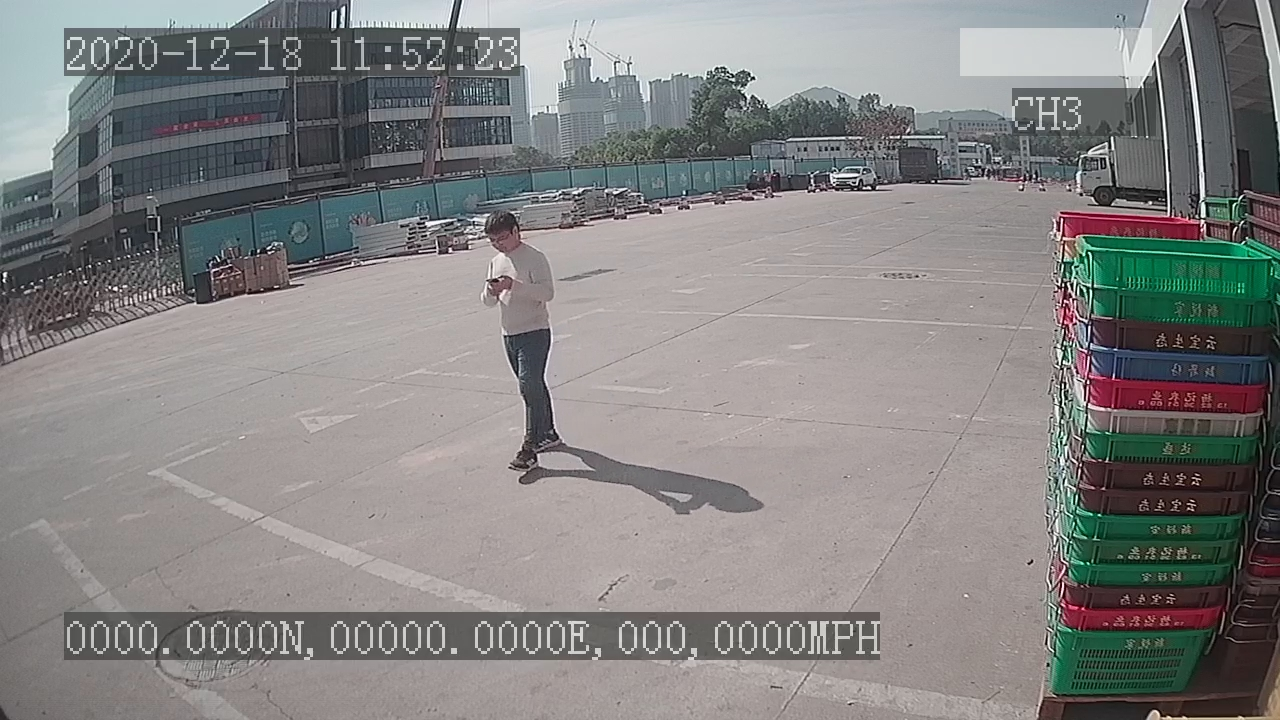person: (474, 206, 568, 477)
